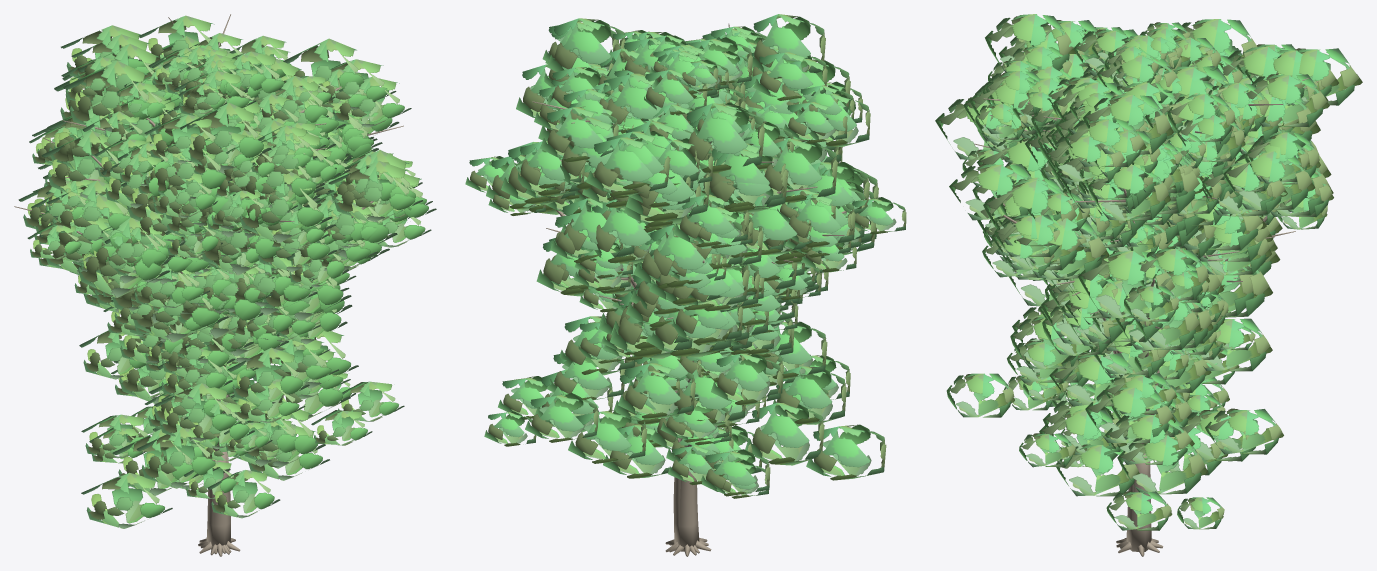
The model's file is callery_pear.glb.
The picture shows the model from 3 angles, left to right: view 1: azimuth 30°, elevation 25°; view 2: azimuth 150°, elevation 25°; view 3: azimuth 270°, elevation 25°; orthographic projection. The views are drawn at different scales.
Visible parts, largest first — view 1: CalleryPear_5, CalleryPear_4, CalleryPear_1, CalleryPear_2, CalleryPear_3; view 2: CalleryPear_1, CalleryPear_3, CalleryPear_4, CalleryPear_2, CalleryPear_5; view 3: CalleryPear_1, CalleryPear_5, CalleryPear_3, CalleryPear_2, CalleryPear_4.
Part boxes in pixels (x1=…): CalleryPear_5: x1=47, y1=25, x2=436, y2=553; CalleryPear_4: x1=27, y1=36, x2=422, y2=556; CalleryPear_1: x1=18, y1=60, x2=377, y2=554; CalleryPear_2: x1=41, y1=14, x2=422, y2=555; CalleryPear_3: x1=14, y1=35, x2=432, y2=554; CalleryPear_1: x1=501, y1=50, x2=870, y2=551; CalleryPear_3: x1=516, y1=14, x2=866, y2=555; CalleryPear_4: x1=484, y1=35, x2=906, y2=556; CalleryPear_2: x1=465, y1=23, x2=886, y2=553; CalleryPear_5: x1=525, y1=18, x2=878, y2=555; CalleryPear_1: x1=974, y1=19, x2=1333, y2=551; CalleryPear_5: x1=935, y1=44, x2=1362, y2=551; CalleryPear_3: x1=969, y1=14, x2=1319, y2=553; CalleryPear_2: x1=975, y1=27, x2=1329, y2=556; CalleryPear_4: x1=946, y1=22, x2=1320, y2=551.
Size of the model in its own units: 4.62 by 5.35 by 4.02.
2 materials, 1 textured.
